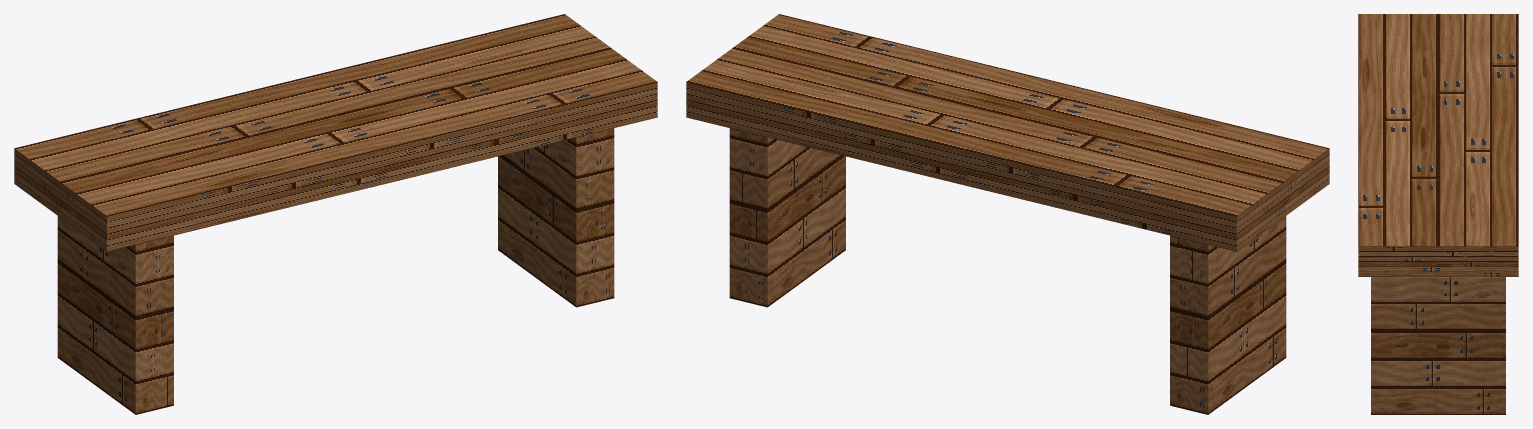
Rendered from banco.glb.
3 renders of one model, left to right at view 1: azimuth 30°, elevation 25°; view 2: azimuth 150°, elevation 25°; view 3: azimuth 270°, elevation 25°, orthographic. The views are drawn at different scales.
Parts seen in each view (by area): view 1: banco; view 2: banco; view 3: banco.
Boxes of the visible parts, x1,y1,x2,y2 form: banco: [14, 14, 657, 414]; banco: [686, 14, 1329, 414]; banco: [1358, 14, 1518, 414].
Size of the model in its own units: 1.3 by 0.48 by 0.38.
1 material, 1 textured.
